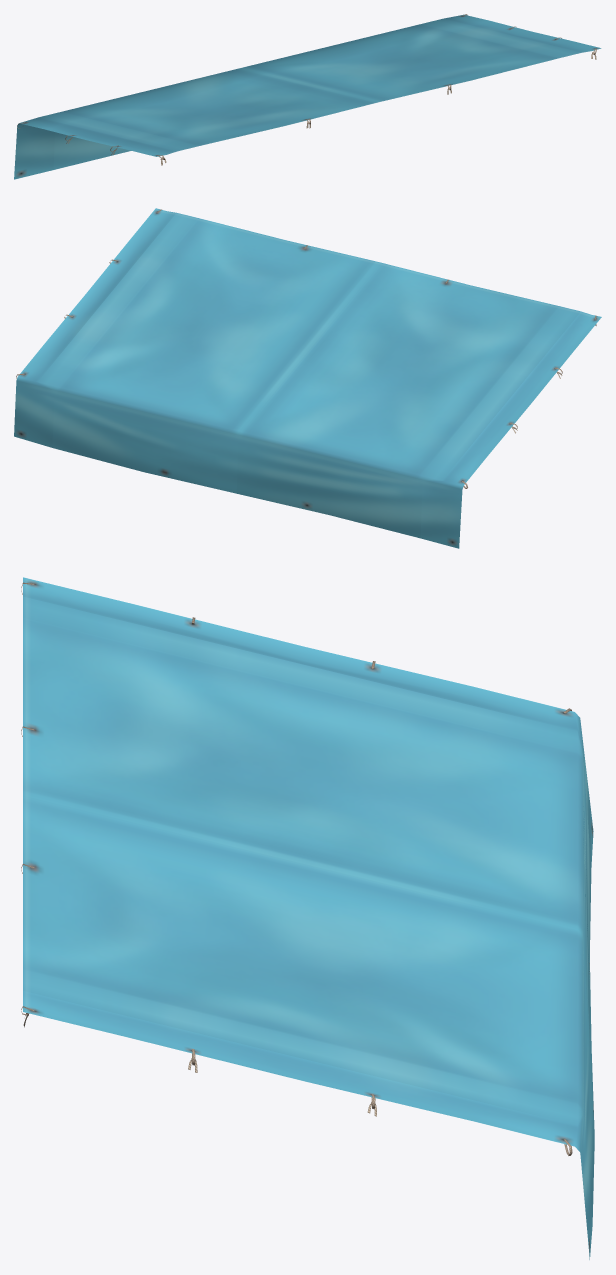
File: jsf_Ceiling_s04_c03_t01.fbx
3 views of the same model, one above another, from view 1: azimuth 30°, elevation 25°; view 2: azimuth 150°, elevation 25°; view 3: azimuth 270°, elevation 25° (orthographic). The views are drawn at different scales.
Visible parts, largest first — view 1: jsf_Ceiling_s04_c03_t01; view 2: jsf_Ceiling_s04_c03_t01; view 3: jsf_Ceiling_s04_c03_t01.
Boxes of the visible parts, x1,y1,x2,y2 form: jsf_Ceiling_s04_c03_t01: (14,14,601,179); jsf_Ceiling_s04_c03_t01: (14,208,601,548); jsf_Ceiling_s04_c03_t01: (21,577,594,1259).
Size of the model in its own units: 394 by 106 by 216.
